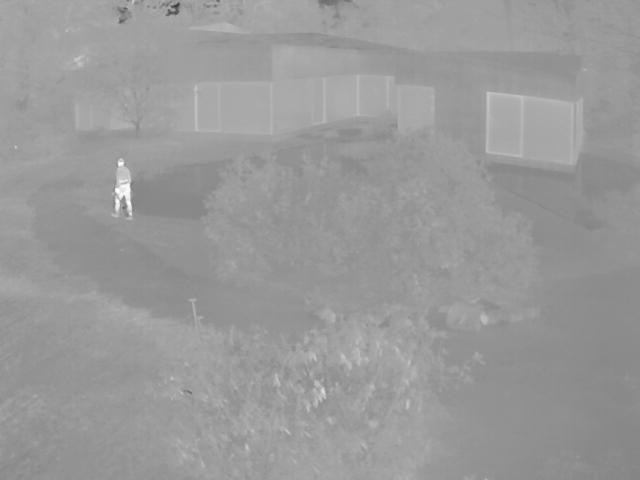person: (111, 157, 135, 224)
